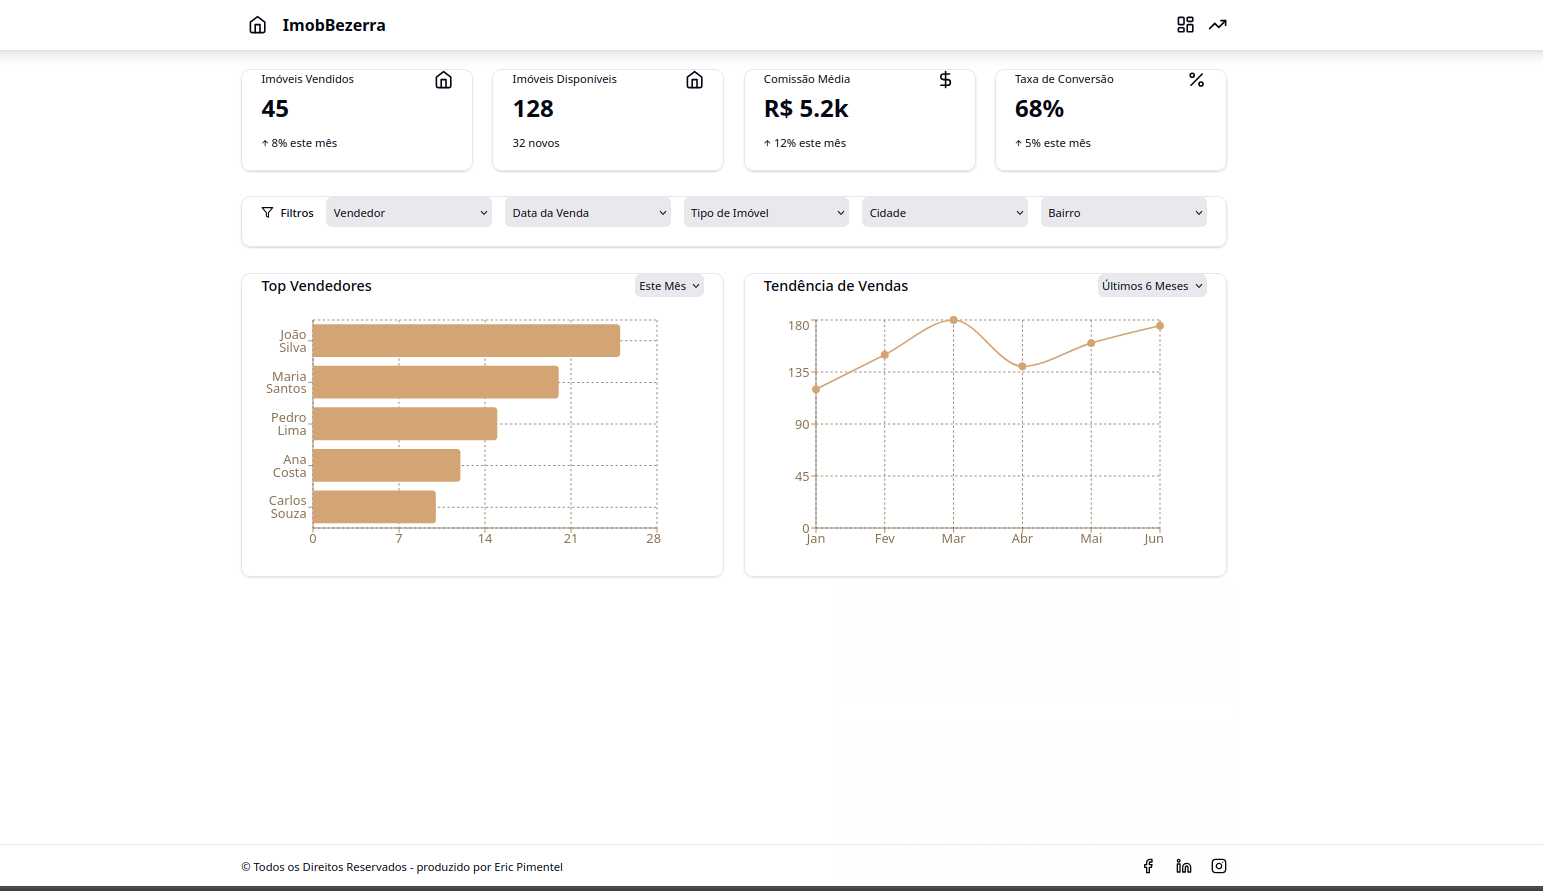

This screenshot's page, from the dashboard's own definition file:
{"tool":"powerbi","page":{"name":"Página 1","canvas":[1280,720],"ordinal":0},"visuals":[{"type":"card","title":"Imóveis Vendidos","fields":{"Values":["Fato_Vendas.Número de Imóveis Vendidos"]},"box":[88,103.1,212.4,71.1],"z":0},{"type":"card","title":"Imóveis Disponíveis","fields":{"Values":["Fato_Vendas.Imóveis Disponíveis"]},"box":[404.4,103.1,220.4,71.1],"z":1000},{"type":"card","title":"Comissão Média","fields":{"Values":["Fato_Vendas.Comissão Média por Vendedor"]},"box":[731.7,102.7,223.3,71.8],"z":2000},{"type":"card","title":"Taxa de Conversão","fields":{"Values":["Fato_Vendas.Taxa de Conversão de Vendas"]},"box":[1052.7,102.7,200.4,71.8],"z":3000},{"type":"barChart","title":"Top Vendedores","fields":{"Category":["Dim_Vendedor.Vendedor"],"Y":["Fato_Vendas.Total de Vendas"]},"box":[32.9,432,371.6,260.4],"z":4000},{"type":"pivotTable","title":"Vendas por Tipo e Cidade","fields":{"Rows":["Dim_Imovel.Tipo de Imóvel","Dim_Localizacao.Cidade"],"Values":["Fato_Vendas.Valor de Compra"],"Columns":["Fato_Vendas.Data da Venda.Variation.Hierarquia de datas.Ano","Fato_Vendas.Data da Venda.Variation.Hierarquia de datas.Trimestre","Fato_Vendas.Data da Venda.Variation.Hierarquia de datas.Mês"]},"box":[506.4,422.7,549.3,279.1],"z":5000,"group":"g1"},{"type":"stackedAreaChart","title":"Tendência de Vendas","fields":{"Category":["Fato_Vendas.Data da Venda.Variation.Hierarquia de datas.Trimestre","Fato_Vendas.Data da Venda.Variation.Hierarquia de datas.Mês","Fato_Vendas.Data da Venda.Variation.Hierarquia de datas.Dia"],"Y":["Fato_Vendas.Total de Vendas"]},"box":[94.2,213.3,1036.4,169.8],"z":5000},{"type":"slicer","fields":{"Values":["Dim_Localizacao.Bairro"]},"box":[938.2,11.8,155.6,62.2],"z":6000},{"type":"slicer","fields":{"Values":["Dim_Localizacao.Cidade"]},"box":[762.2,11.8,155.6,62.2],"z":7000},{"type":"slicer","fields":{"Values":["Dim_Imovel.Tipo de Imóvel"]},"box":[588.9,11.8,155.6,62.2],"z":8000},{"type":"slicer","fields":{"Values":["Fato_Vendas.Data da Venda"]},"box":[345.3,11.8,222.2,62.2],"z":9000},{"type":"slicer","fields":{"Values":["Dim_Vendedor.Vendedor"]},"box":[163.1,11.8,155.6,62.2],"z":10000},{"type":"group","id":"g1","title":"Grupo 1","box":[506.4,422.7,549.3,279.1],"z":11000},{"type":"image","box":[30.9,102.7,56.8,64.8],"z":12000},{"type":"image","box":[345.9,104.7,58.8,66.8],"z":13000},{"type":"image","box":[667.9,102.7,58.8,64.8],"z":14000},{"type":"image","box":[995.9,108.7,56.8,58.8],"z":15000},{"type":"image","box":[1080,477.3,150.2,169.8],"z":16000},{"type":"image","box":[20.9,0,73.8,79.8],"z":17000},{"type":"image","box":[1198.2,16,54.2,64],"z":18000},{"type":"actionButton","box":[1120.9,22.2,49.8,51.6],"z":19000},{"type":"textbox","box":[1080,648,172.4,44.4],"z":19001}]}

Visuals, with their boxes in screenshot pixels (x1, y1, x2, y2), scaled from the page's 1280x720 canvas onto the 1543x891 screenshot:
"Imóveis Vendidos" card: [x1=106, y1=128, x2=362, y2=216]
"Imóveis Disponíveis" card: [x1=487, y1=128, x2=753, y2=216]
"Comissão Média" card: [x1=882, y1=127, x2=1151, y2=216]
"Taxa de Conversão" card: [x1=1269, y1=127, x2=1511, y2=216]
"Top Vendedores" barChart: [x1=40, y1=535, x2=488, y2=857]
"Vendas por Tipo e Cidade" pivotTable: [x1=610, y1=523, x2=1273, y2=868]
"Tendência de Vendas" stackedAreaChart: [x1=114, y1=264, x2=1363, y2=474]
slicer - Dim_Localizacao.Bairro: [x1=1131, y1=15, x2=1319, y2=92]
slicer - Dim_Localizacao.Cidade: [x1=919, y1=15, x2=1106, y2=92]
slicer - Dim_Imovel.Tipo de Imóvel: [x1=710, y1=15, x2=897, y2=92]
slicer - Fato_Vendas.Data da Venda: [x1=416, y1=15, x2=684, y2=92]
slicer - Dim_Vendedor.Vendedor: [x1=197, y1=15, x2=384, y2=92]
"Grupo 1" group: [x1=610, y1=523, x2=1273, y2=868]
image: [x1=37, y1=127, x2=106, y2=207]
image: [x1=417, y1=130, x2=488, y2=212]
image: [x1=805, y1=127, x2=876, y2=207]
image: [x1=1201, y1=135, x2=1269, y2=207]
image: [x1=1302, y1=591, x2=1483, y2=801]
image: [x1=25, y1=0, x2=114, y2=99]
image: [x1=1444, y1=20, x2=1510, y2=99]
actionButton: [x1=1351, y1=27, x2=1411, y2=91]
textbox: [x1=1302, y1=802, x2=1510, y2=857]
